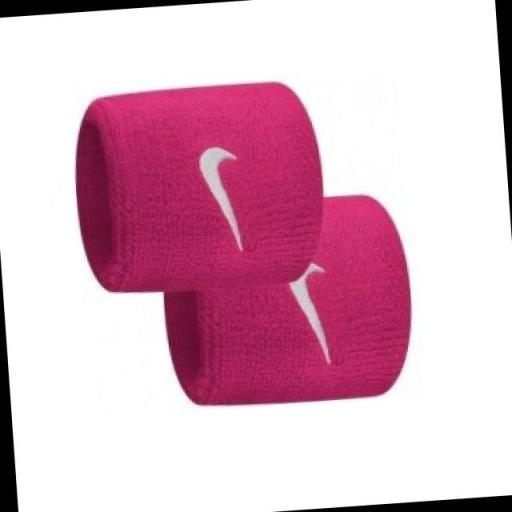Nike: (184, 136, 250, 262)
